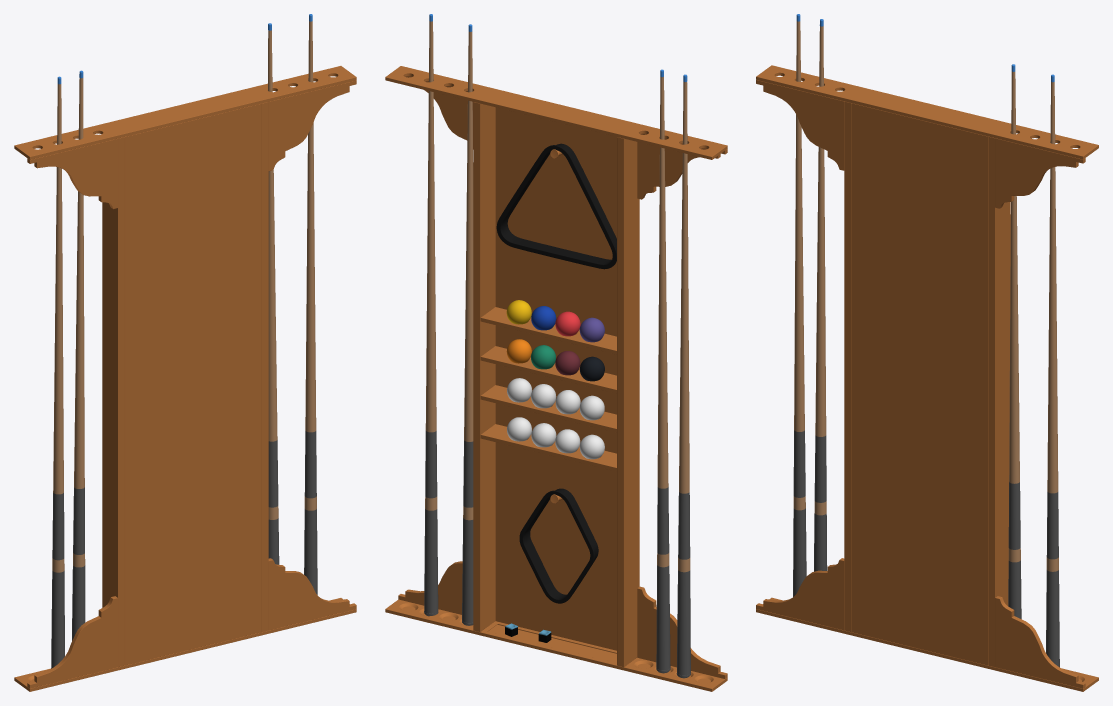
The model's file is Pool rack.fbx.
3 views of the same model, side by side, from view 1: azimuth 30°, elevation 25°; view 2: azimuth 150°, elevation 25°; view 3: azimuth 330°, elevation 25° (orthographic).
Visible parts, largest first — view 1: PoolCueWallRack, PoolCue.001, PoolCue.002, PoolCue.003, PoolCue.004; view 2: PoolCueWallRack, PoolCue.001, PoolCue.003, PoolCue.002, PoolCue.004, 8-Ball Rack, 9-Ball Rack; view 3: PoolCueWallRack, PoolCue.002, PoolCue.001, PoolCue.003, PoolCue.004.
Part boxes in pixels (box(x1,y1,x2,y2)): PoolCueWallRack: box(14, 66, 356, 691); PoolCue.001: box(51, 76, 64, 668); PoolCue.002: box(304, 14, 317, 594); PoolCue.003: box(72, 70, 85, 640); PoolCue.004: box(268, 23, 279, 564); PoolCueWallRack: box(385, 66, 727, 691); PoolCue.001: box(676, 74, 690, 678); PoolCue.003: box(656, 69, 670, 673); PoolCue.002: box(424, 14, 438, 616); PoolCue.004: box(462, 24, 473, 625); 8-Ball Rack: box(496, 143, 616, 269); 9-Ball Rack: box(519, 488, 598, 603); PoolCueWallRack: box(756, 65, 1098, 691); PoolCue.002: box(1046, 74, 1059, 667); PoolCue.001: box(793, 14, 806, 596); PoolCue.003: box(814, 19, 827, 571); PoolCue.004: box(1008, 64, 1021, 618).
Bounding box in the file's own units: 84.02 × 148 × 6.99.
